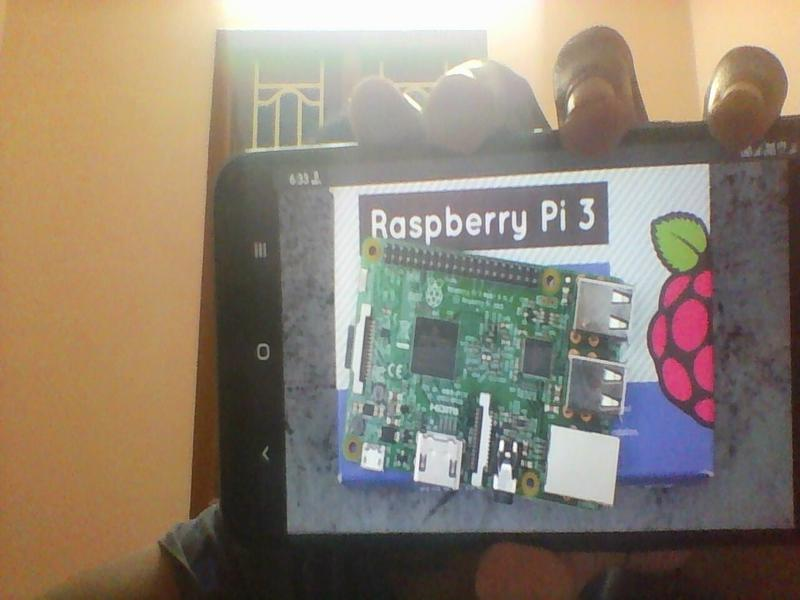aud: (491, 435, 522, 510)
eth: (547, 425, 622, 507)
usb: (563, 354, 630, 416), (573, 276, 633, 343)
